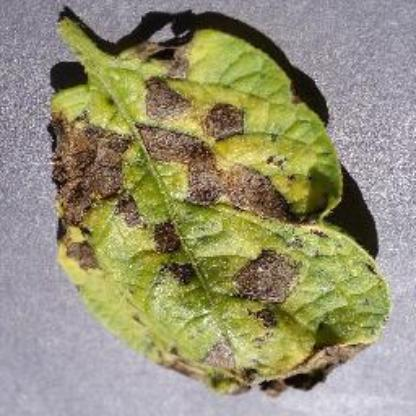Early-Blight: (28, 1, 416, 404)
